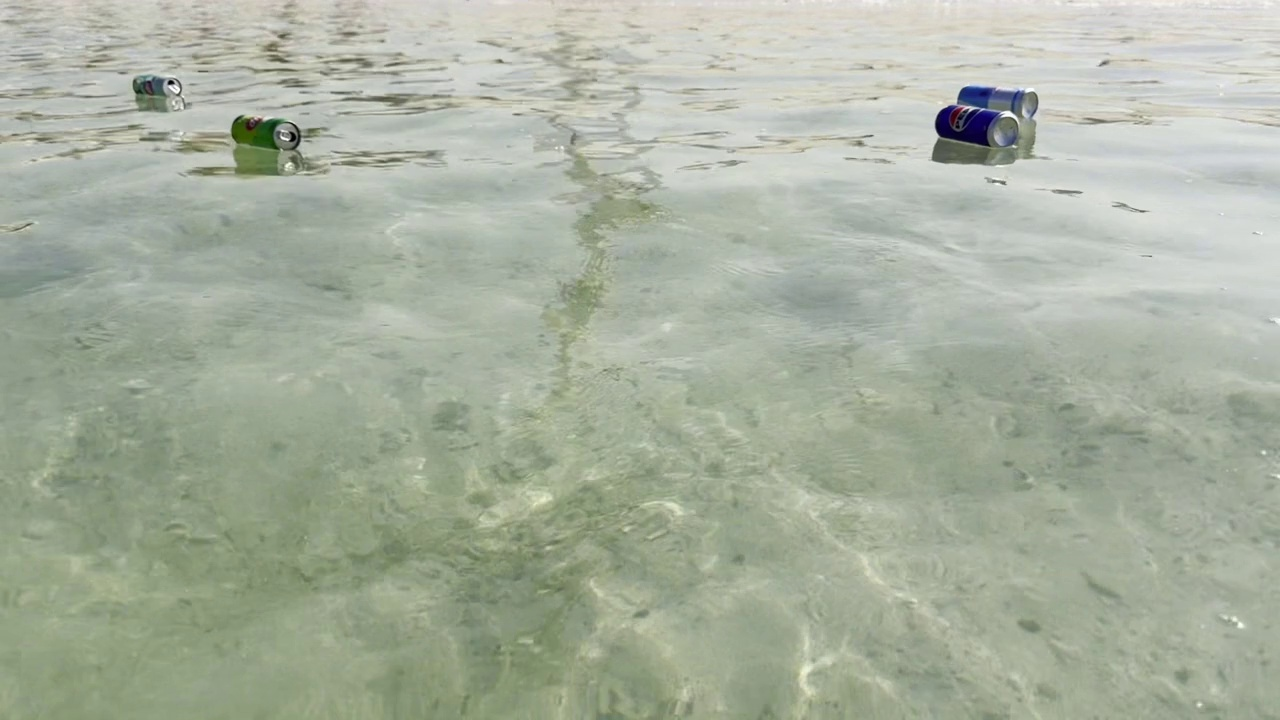debris: (930, 100, 1024, 153), (220, 109, 305, 159), (949, 80, 1041, 123), (127, 72, 188, 104)
